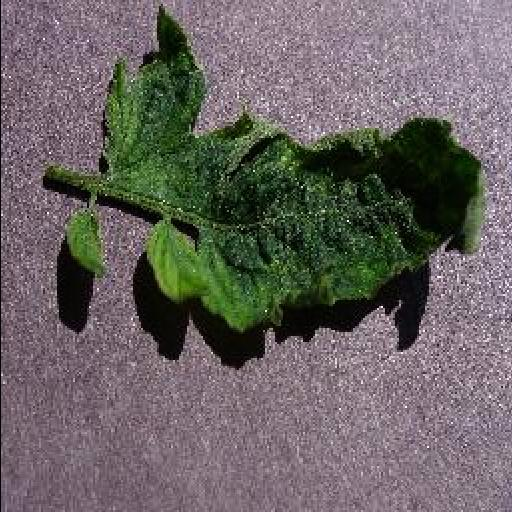disease_tomato: (100, 2, 486, 338)
